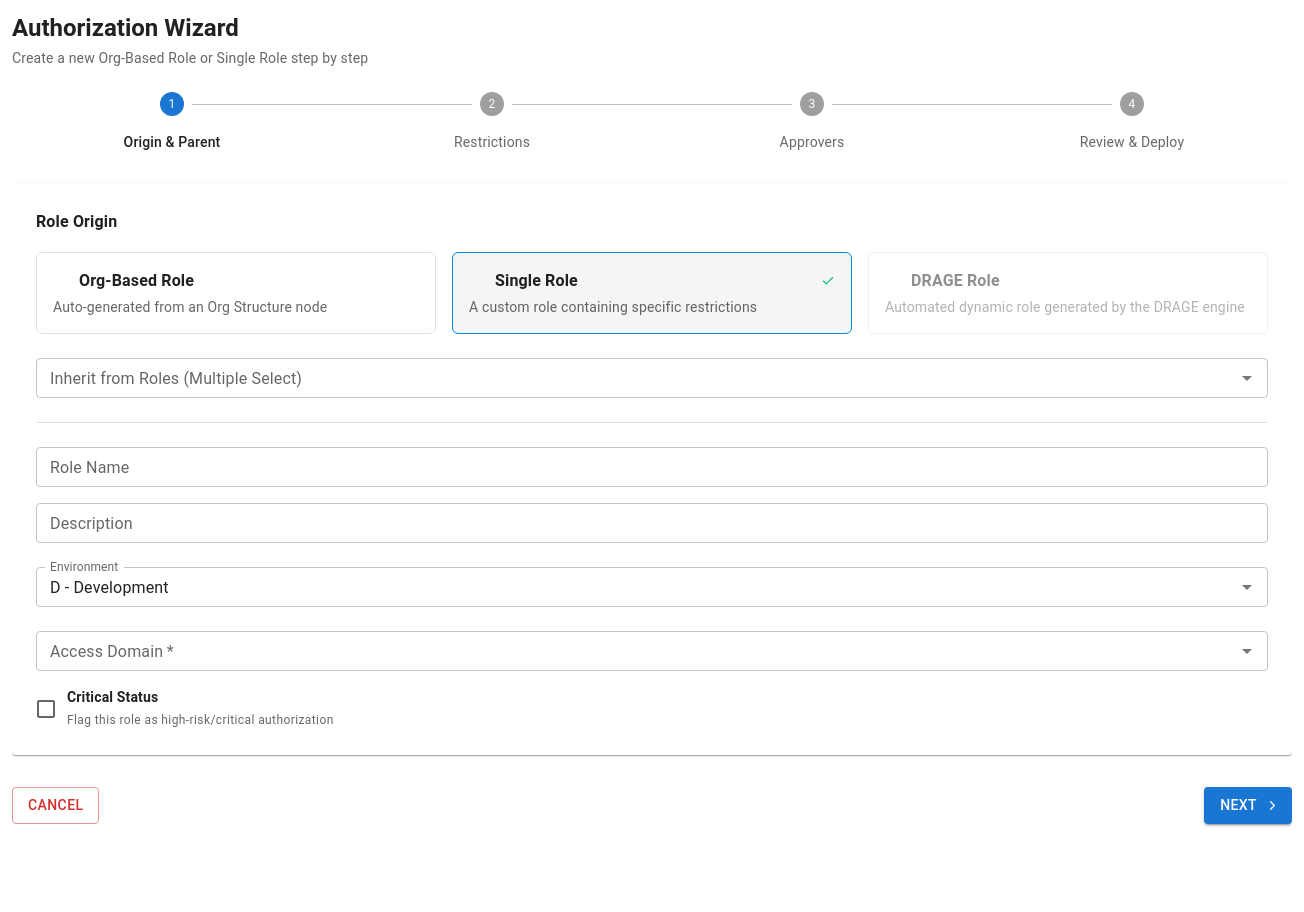
Wizard Component - Expanded Tests › handles Step 3 summary rendering
The width and height of the screenshot is (1304, 912).
Note: Fill in role name
Type "ROLE_TEST_SIM" into the field labelled "Role Name".
click(652, 467); type("ROLE_TEST_SIM")  # box top-left (36, 447), bottom-right (1268, 487)
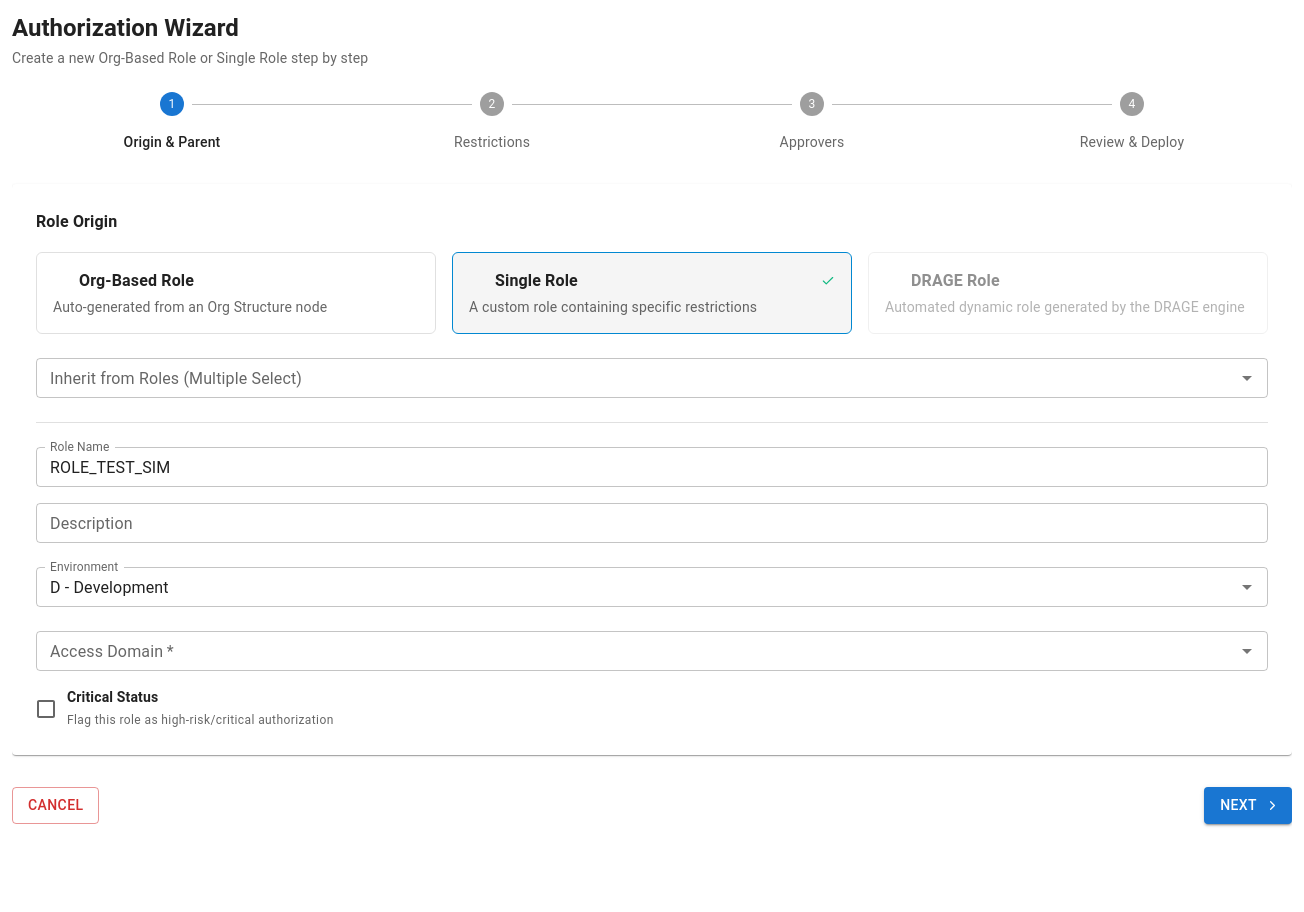
Note: Go to Step 3 (Review & Deploy)
Click the text "Review & Deploy".
click(1132, 142)  # box top-left (1080, 134), bottom-right (1184, 150)
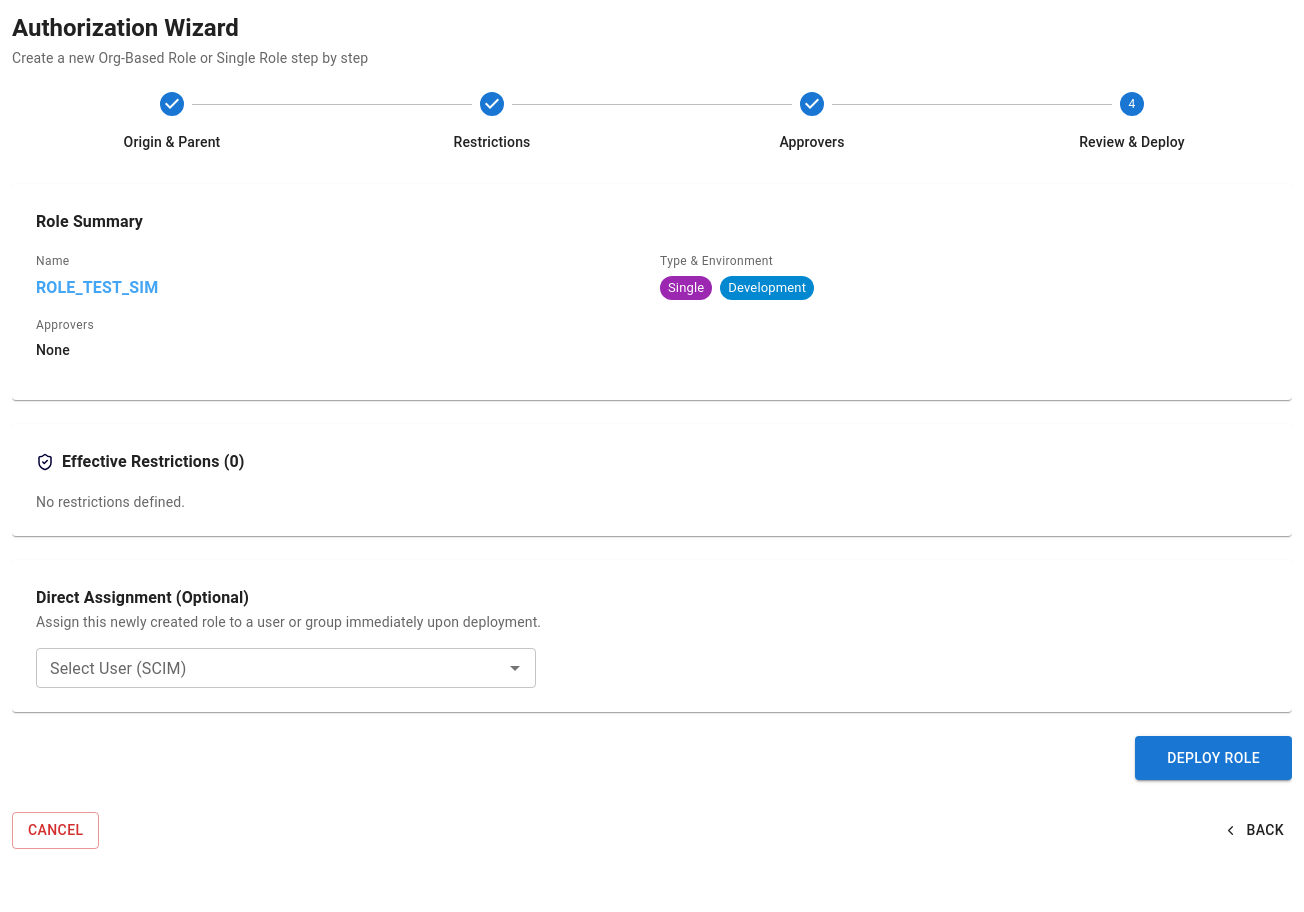
expect the heading "Role Summary" is shown: met, box top-left (36, 212), bottom-right (143, 231)
